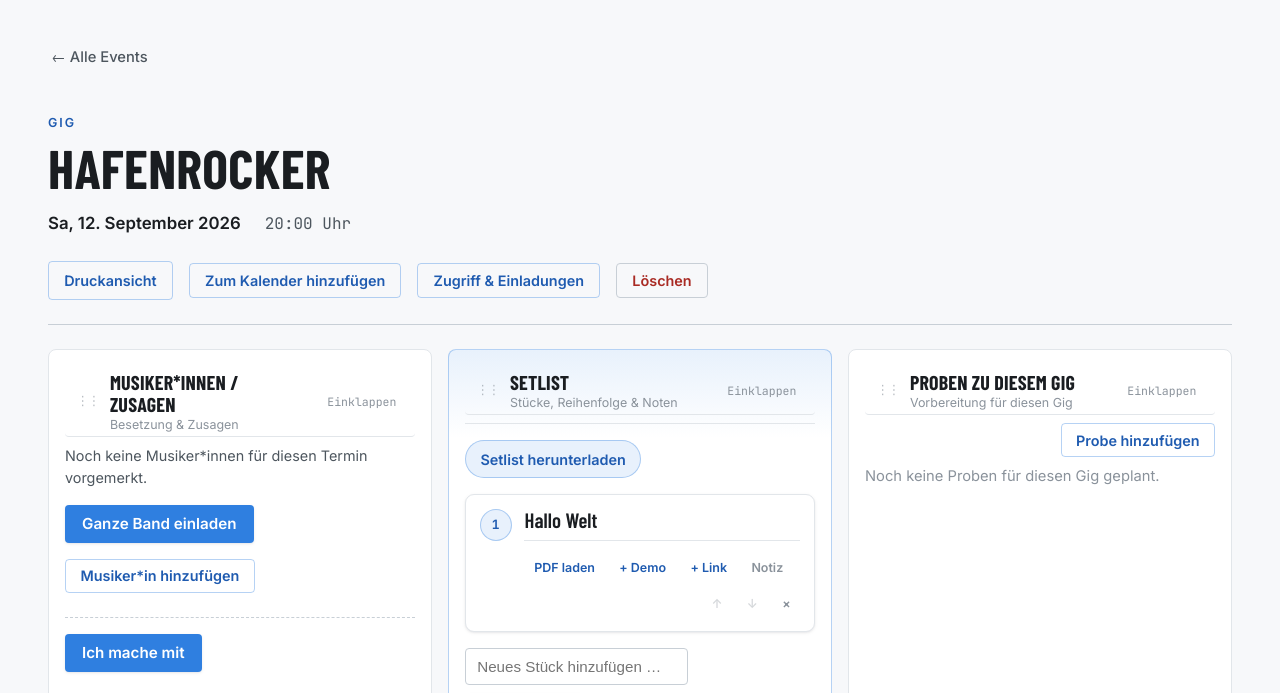
Test: EventDetailComponent › should remove a piece from the setlist
Click the button with class "entry__btn--danger": point(786, 604) [772, 590, 800, 618]
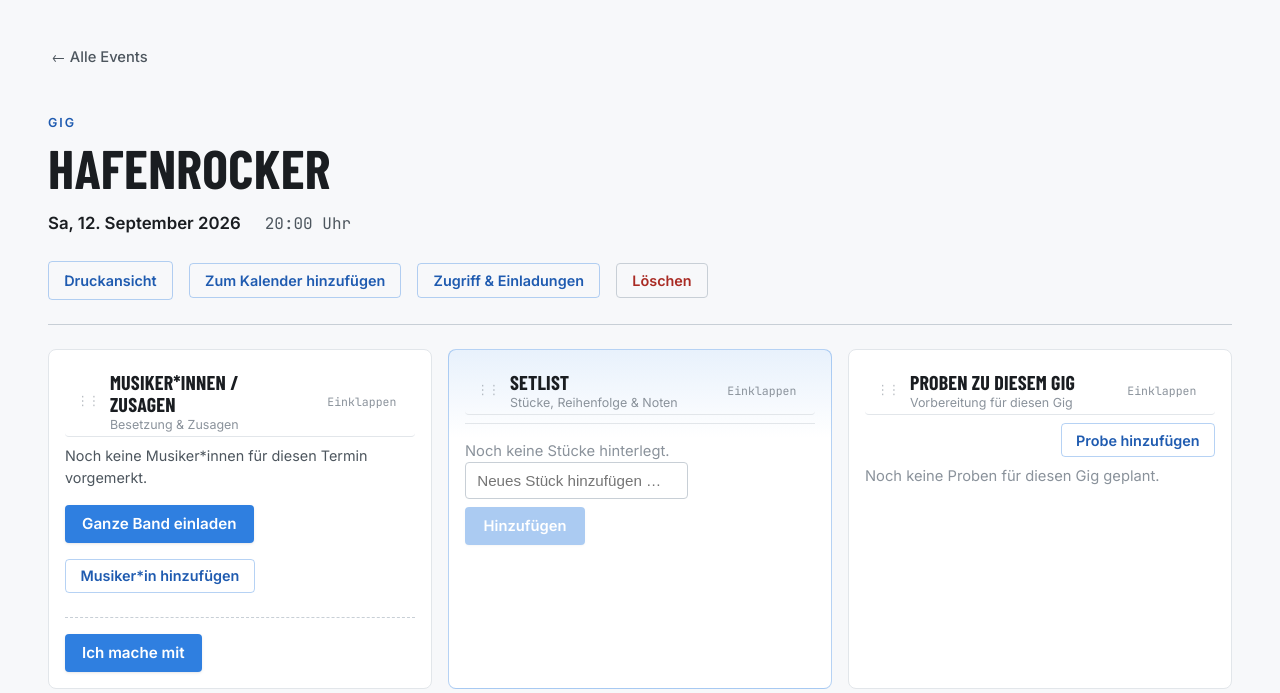
Expected: the text "Noch keine Stücke hinterlegt." is shown, [465, 442, 670, 460]
